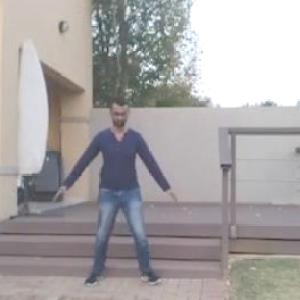land: (48, 97, 168, 294)
